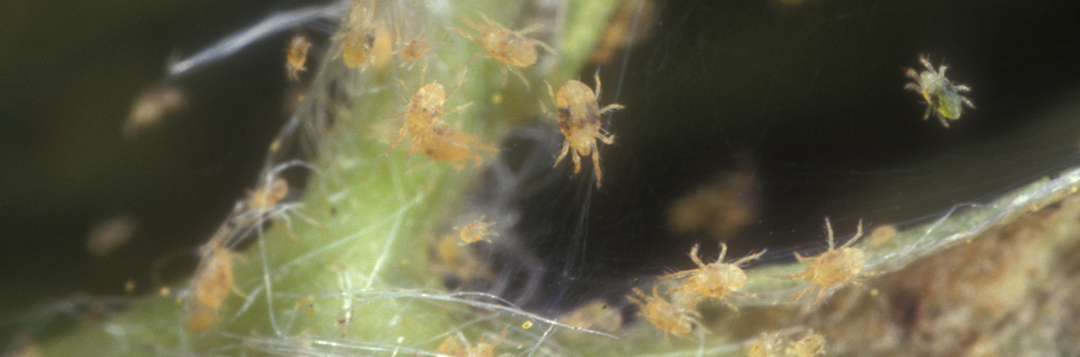Mites: (767, 209, 908, 302), (907, 48, 996, 154), (674, 234, 771, 317), (548, 71, 627, 172), (452, 10, 548, 85)
